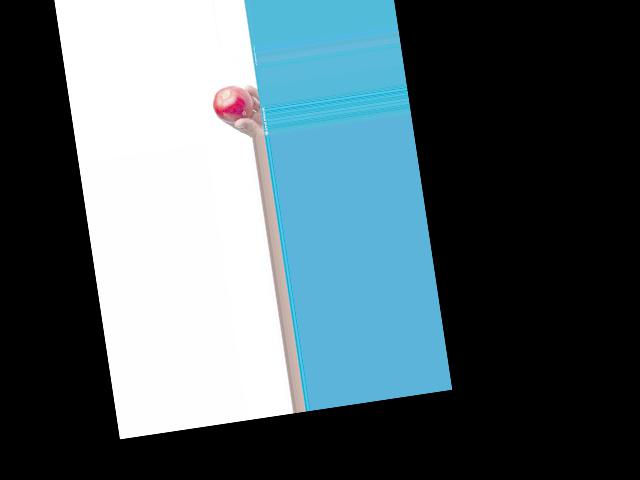tomato: (211, 82, 255, 125)
